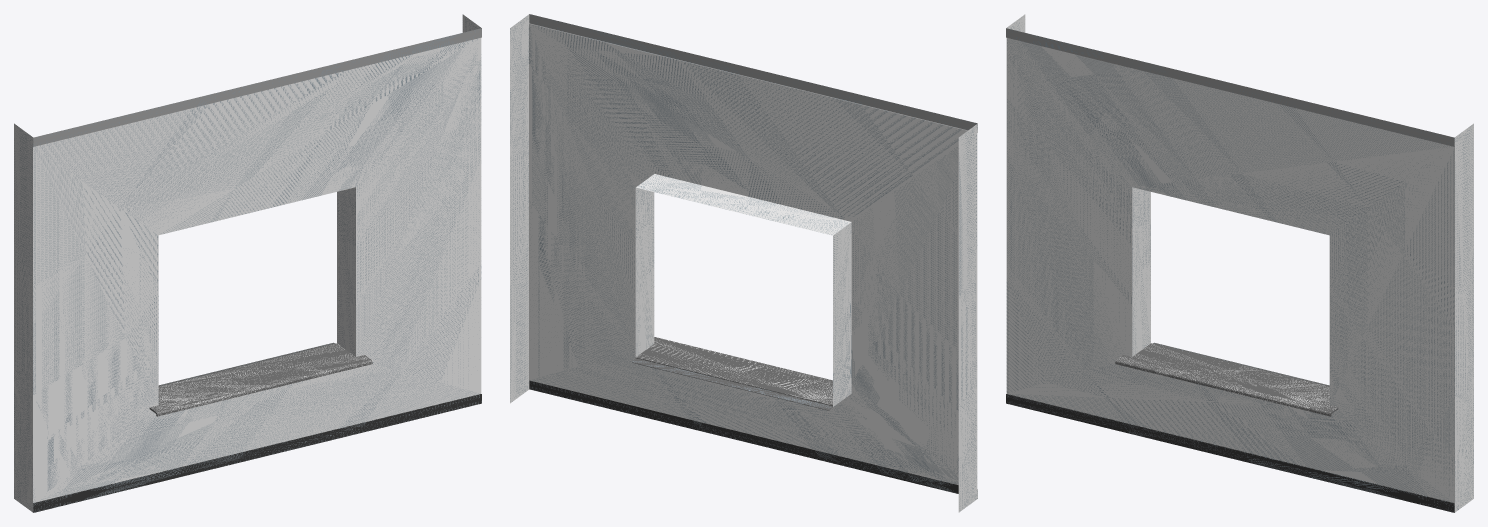
The model's file is WindowBlock_os_plinth_[500x400]_220x181x[080].dae.
3 views of the same model, side by side, from view 1: azimuth 30°, elevation 25°; view 2: azimuth 150°, elevation 25°; view 3: azimuth 330°, elevation 25° (orthographic).
Visible parts, largest first — view 1: group_1 (×4), group_2; view 2: group_1 (×4), group_2 (×2); view 3: group_1 (×4), group_2.
Boxes of the visible parts, x1,y1,x2,y2 form: group_1 (×4): (14, 14, 481, 512); group_2: (149, 343, 372, 416); group_1 (×4): (510, 14, 977, 512); group_2 (×2): (632, 337, 832, 410); group_1 (×4): (1006, 14, 1473, 512); group_2: (1115, 343, 1337, 416).
Bounding box in the file's own units: 197 × 23.03 × 157.
